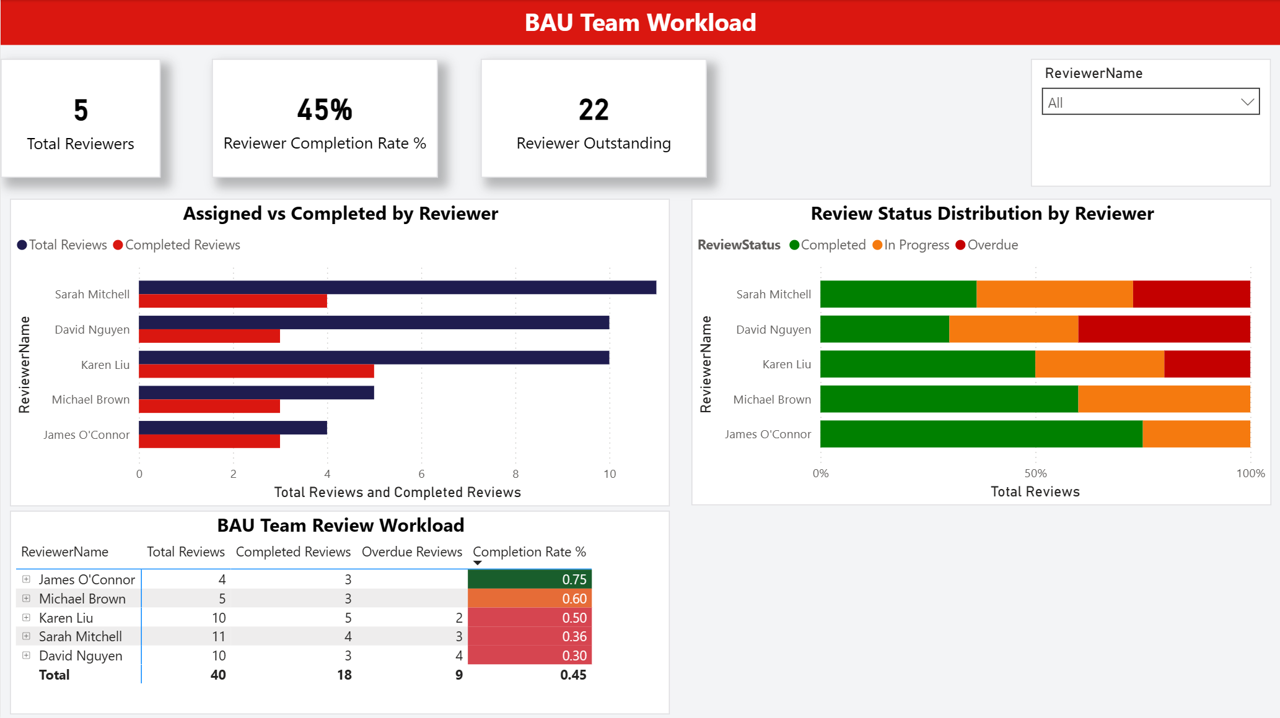

This screenshot's page, from the dashboard's own definition file:
{"tool":"powerbi","page":{"name":"Reviewer Workload","canvas":[1280,720],"ordinal":2},"visuals":[{"type":"card","fields":{"Values":["IAM_UAR_Data.Total Reviewers"]},"box":[0,58.8,160,119.5],"z":0},{"type":"card","fields":{"Values":["IAM_UAR_Data.Reviewer Outstanding"]},"box":[480,58.8,226.2,118.8],"z":1000},{"type":"card","fields":{"Values":["IAM_UAR_Data.Reviewer Completion Rate %"]},"box":[211.2,58.8,226,119],"z":2000},{"type":"clusteredBarChart","title":"Assigned vs Completed by Reviewer","fields":{"Category":["IAM_UAR_Data.ReviewerName"],"Y":["IAM_UAR_Data.Total Reviews","IAM_UAR_Data.Completed Reviews"]},"box":[9.4,198.8,659.5,307.9],"z":3000},{"type":"hundredPercentStackedBarChart","title":"Review Status Distribution by Reviewer","fields":{"Category":["IAM_UAR_Data.ReviewerName"],"Y":["IAM_UAR_Data.Total Reviews"],"Series":["IAM_UAR_Data.ReviewStatus"]},"box":[690.9,198.9,580,307.3],"z":4000},{"type":"pivotTable","title":"BAU Team Review Workload","fields":{"Rows":["IAM_UAR_Data.ReviewerName","IAM_UAR_Data.ReviewerDepartment"],"Values":["IAM_UAR_Data.Total Reviews","IAM_UAR_Data.Completed Reviews","IAM_UAR_Data.Overdue Reviews","IAM_UAR_Data.Completion Rate %"]},"box":[9,511.2,659.9,203.9],"z":5000},{"type":"slicer","fields":{"Values":["IAM_UAR_Data.ReviewerName"]},"box":[1030.4,58.9,240.4,127.6],"z":6000},{"type":"textbox","box":[0,0,1280,45],"z":8000}]}

Visuals, with their boxes in screenshot pixels (x1, y1, x2, y2), scaled from the page's 1280x720 canvas onto the 1280x718 screenshot:
card - IAM_UAR_Data.Total Reviewers: locate(0, 59, 160, 178)
card - IAM_UAR_Data.Reviewer Outstanding: locate(480, 59, 706, 177)
card - IAM_UAR_Data.Reviewer Completion Rate %: locate(211, 59, 437, 177)
"Assigned vs Completed by Reviewer" clusteredBarChart: locate(9, 198, 669, 505)
"Review Status Distribution by Reviewer" hundredPercentStackedBarChart: locate(691, 198, 1271, 505)
"BAU Team Review Workload" pivotTable: locate(9, 510, 669, 713)
slicer - IAM_UAR_Data.ReviewerName: locate(1030, 59, 1271, 186)
textbox: locate(0, 0, 1279, 45)
